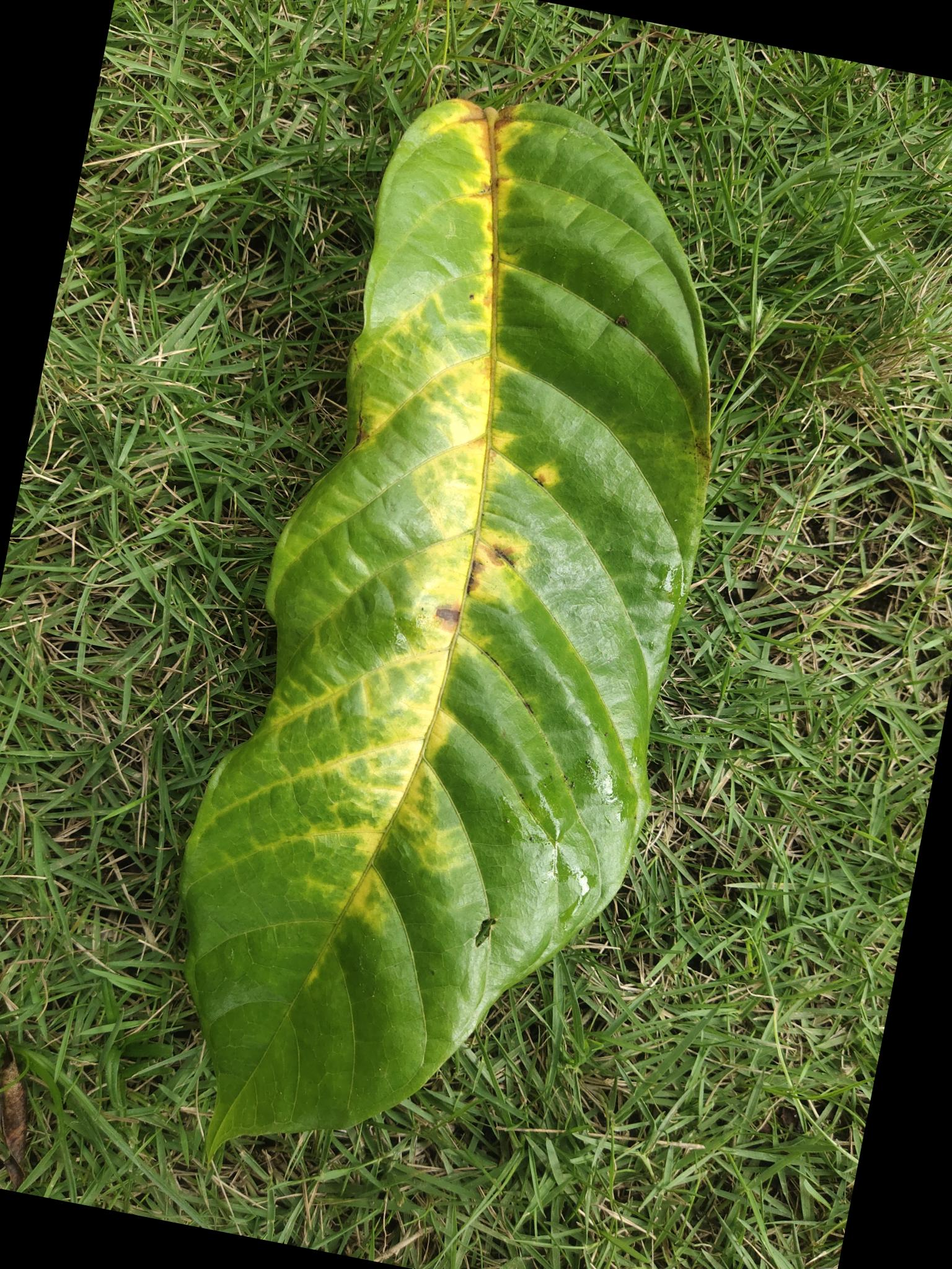Fosforo: (183, 73, 734, 1158)
